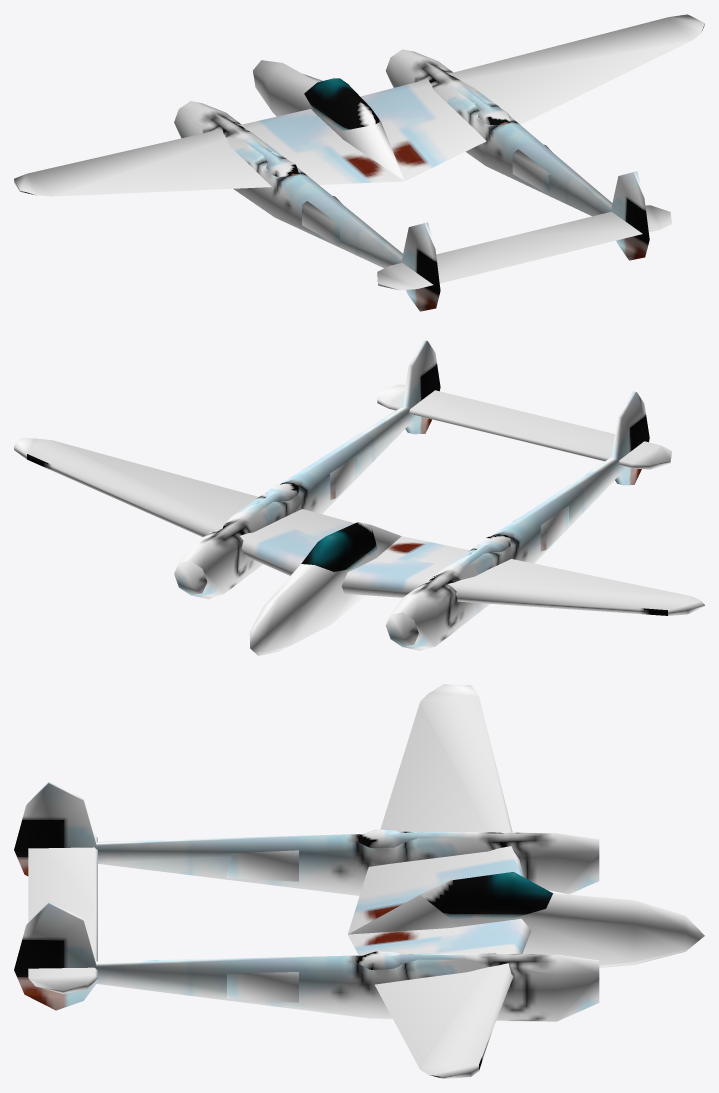
Rendered from static.ico.obj.
3 renders of one model, top to bottom at view 1: azimuth 30°, elevation 25°; view 2: azimuth 150°, elevation 25°; view 3: azimuth 270°, elevation 25°, orthographic. The views are drawn at different scales.
Bounding box in the file's own units: 4.98 × 0.7615 × 3.7.
